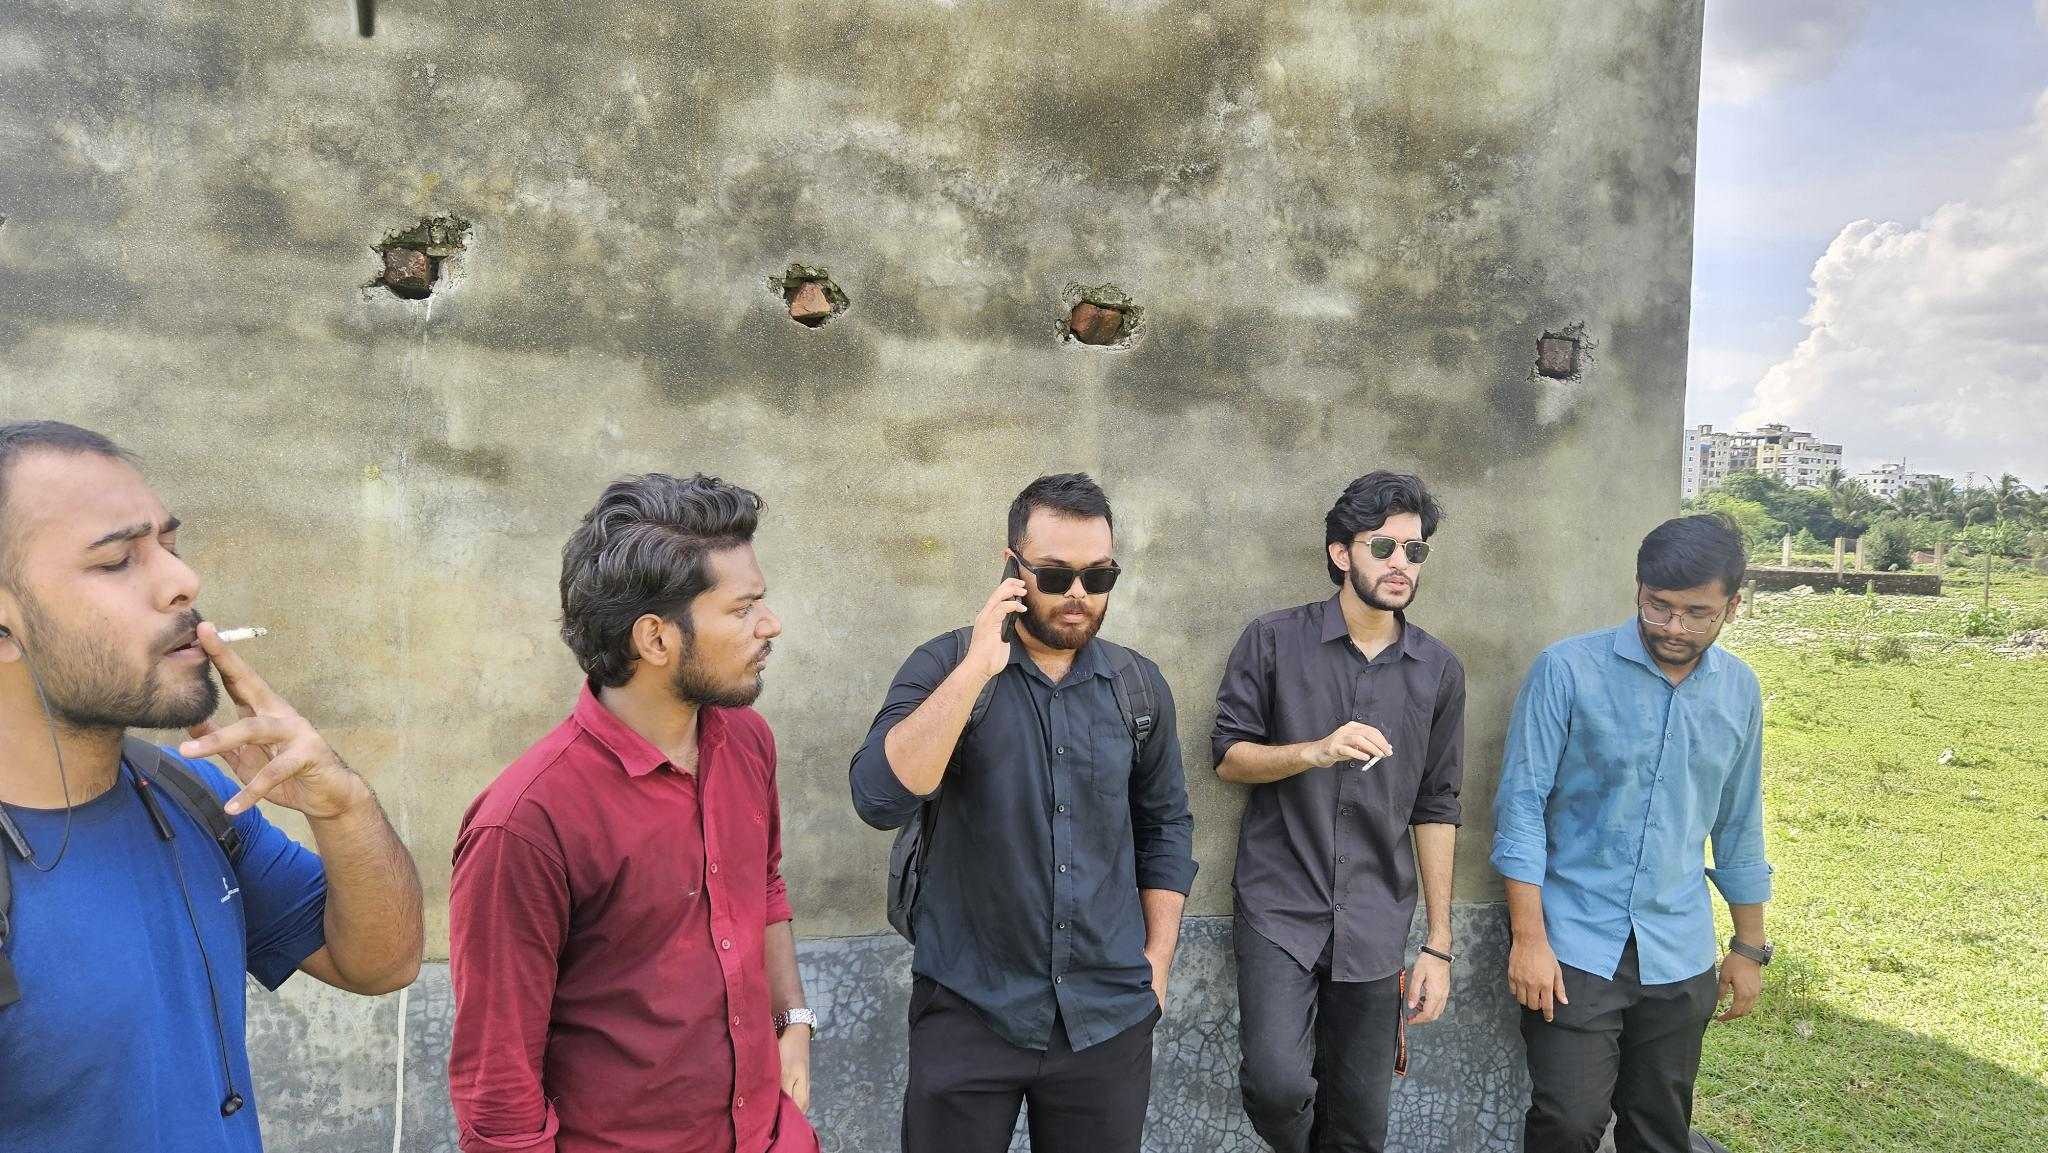cigarette: (211, 623, 271, 645), (1359, 754, 1383, 773)
nonSmoker: (443, 474, 823, 1153), (851, 471, 1200, 1153), (1492, 515, 1778, 1153)
smoker: (0, 409, 422, 1153), (1212, 471, 1466, 1153)
